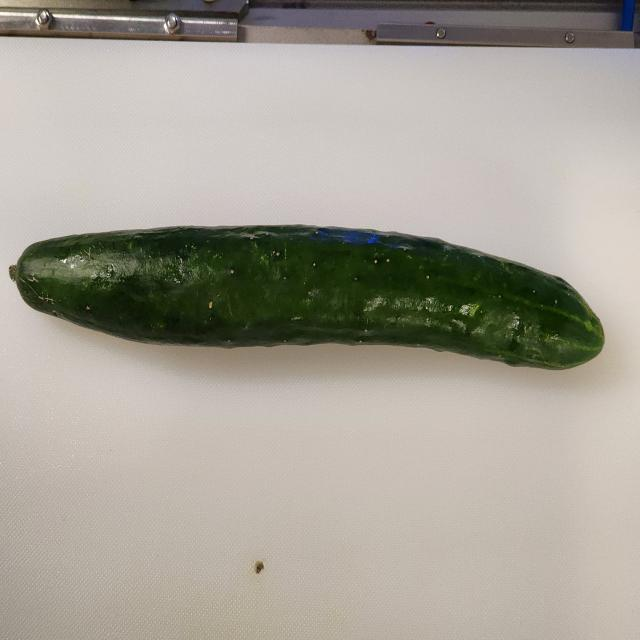cucumber: (9, 223, 605, 371)
